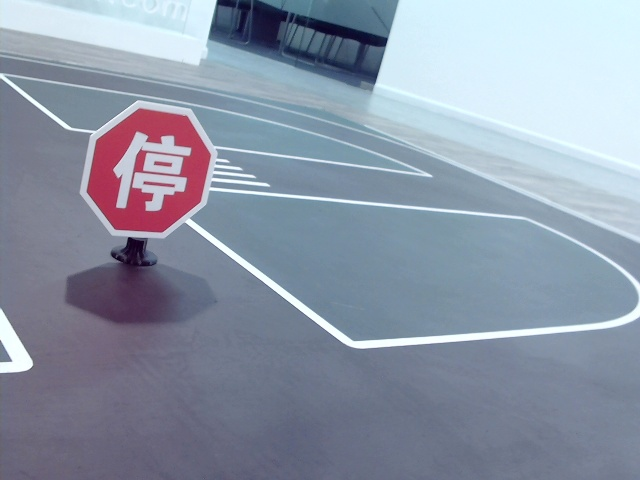stop: (111, 132, 191, 210)
